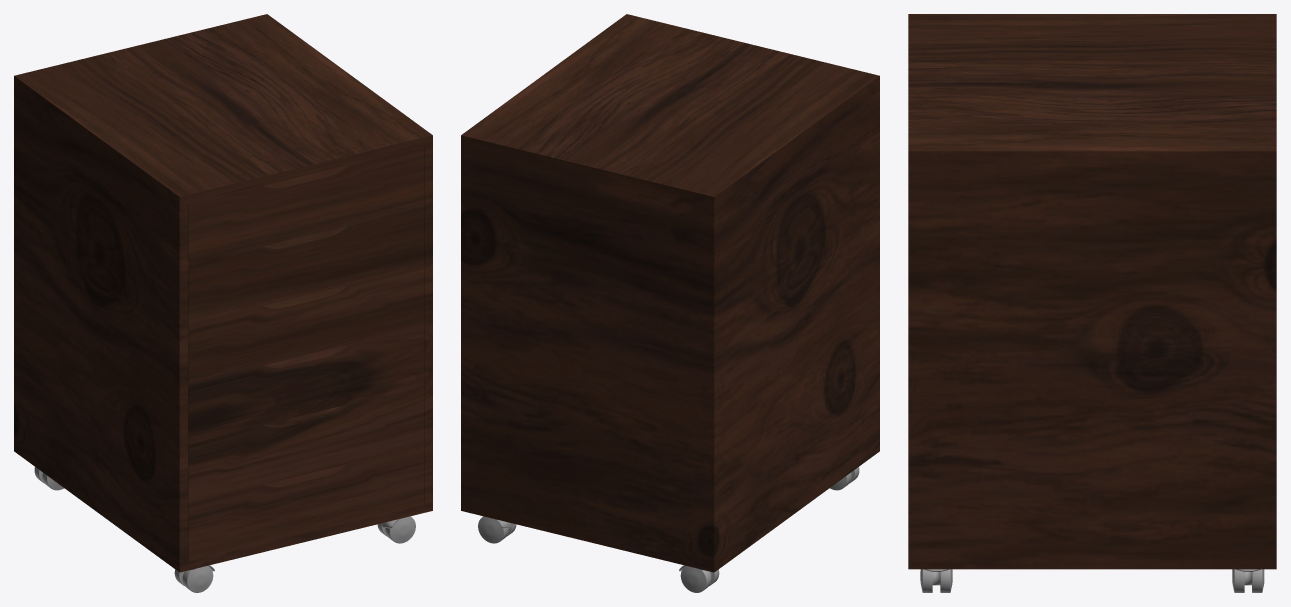
The model's file is Drawers_Wheels.fbx.
3 views of the same model, side by side, from view 1: azimuth 30°, elevation 25°; view 2: azimuth 150°, elevation 25°; view 3: azimuth 270°, elevation 25° (orthographic). The views are drawn at different scales.
Visible parts, largest first — view 1: Drawers_Wheels; view 2: Drawers_Wheels; view 3: Drawers_Wheels.
Part boxes in pixels (x1=…): Drawers_Wheels: x1=14, y1=14, x2=432, y2=592; Drawers_Wheels: x1=461, y1=14, x2=879, y2=592; Drawers_Wheels: x1=908, y1=14, x2=1276, y2=592.
Size of the model in its own units: 0.5196 by 0.7982 by 0.589.
